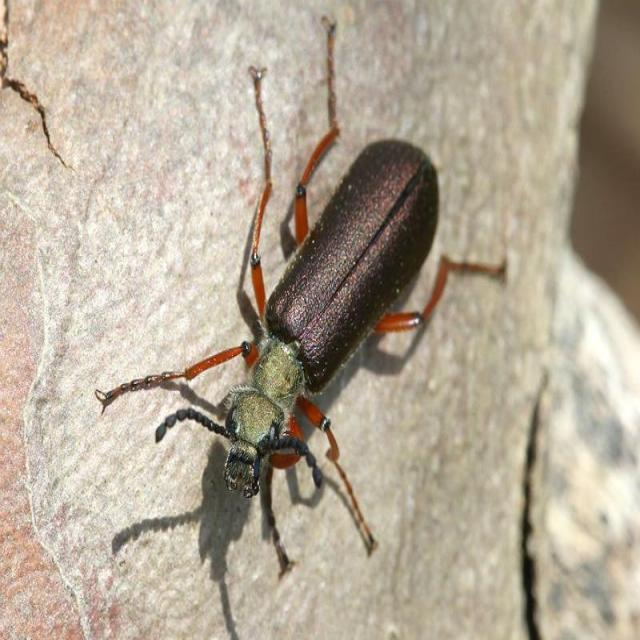BlisterBeetle-Adult-: (175, 11, 514, 566)
